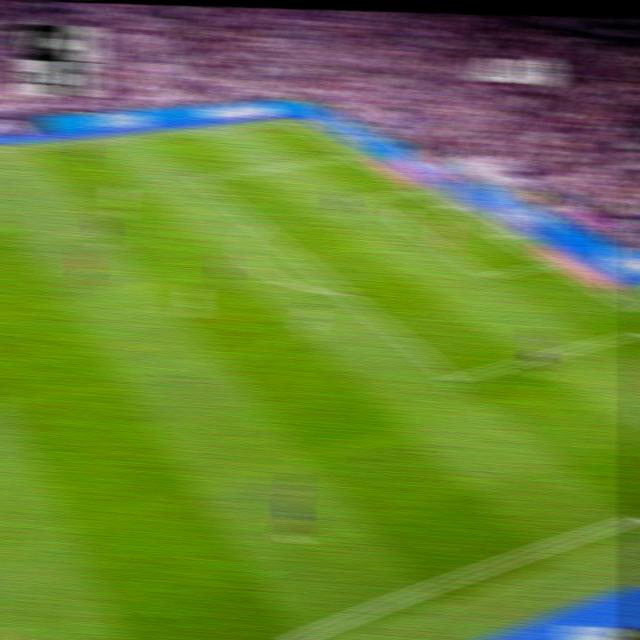bigarea_bottom_inner: (444, 366, 465, 391)
bigarea_top_inner: (190, 170, 209, 186)
bigarea_top_outter: (341, 149, 360, 161)
bottom_arc_area_intersection: (333, 283, 355, 302)
corner: (279, 114, 299, 127)
smallarea_top_inner: (356, 193, 372, 204)
top_arc_area_intersection: (249, 216, 268, 232)
